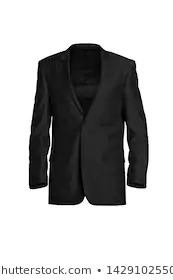F_M_suit jacket: (27, 42, 151, 209)
